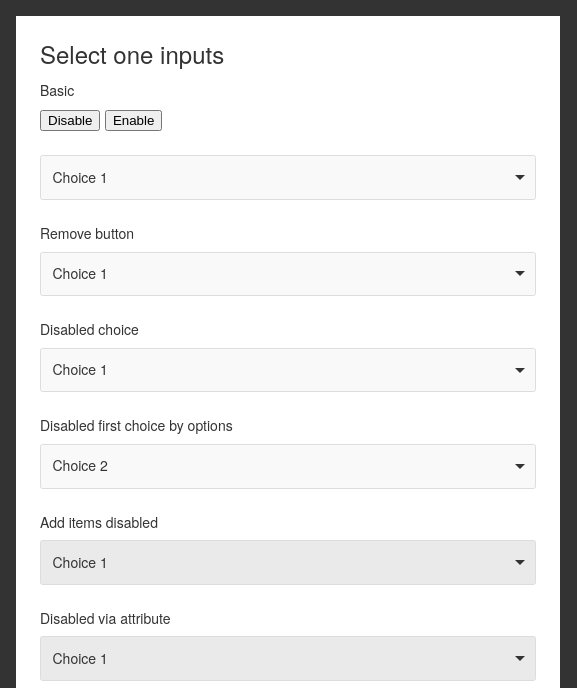
Test case: Choices - select one › scenarios › basic › searching choices › on input › no results found › displays "no results found" prompt
The image size is (577, 688).
Click the dropdown with class "choices" below "Basic" at (288, 178), box [40,155,536,200]
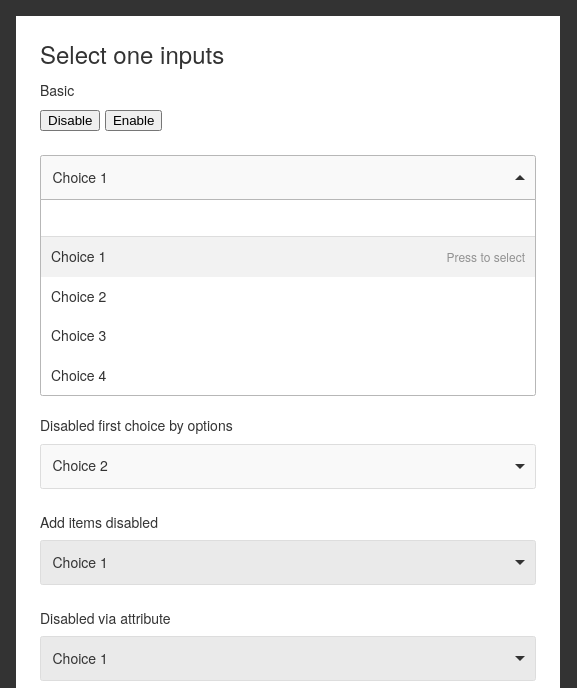
Type "faergge" into the field with class "choices__input--cloned" at (288, 219), box [41,200,535,237]
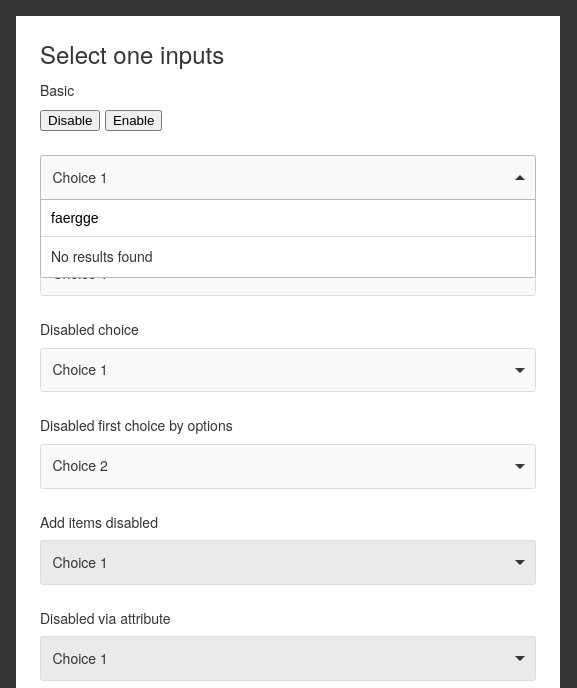
Check: the element with class "choices__list--dropdown" reads "No results found", box [40,199,536,278]
